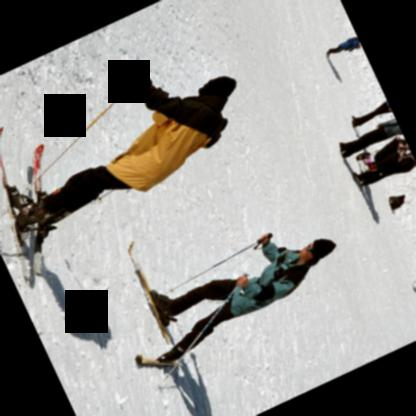backpack: (388, 195, 405, 211)
